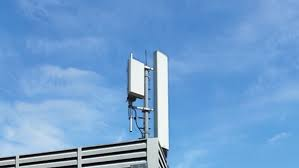sa: (148, 44, 181, 158), (123, 49, 148, 106)
